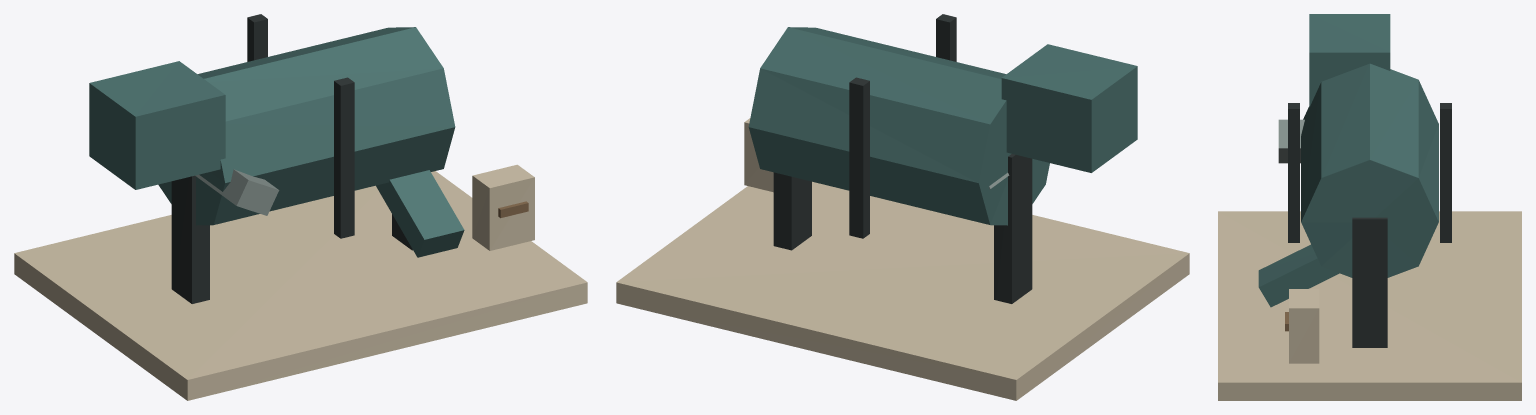
Rendered from Soil-Mixing-Station.glb.
3 renders of one model, left to right at view 1: azimuth 30°, elevation 25°; view 2: azimuth 150°, elevation 25°; view 3: azimuth 270°, elevation 25°, orthographic. The views are drawn at different scales.
Visible parts, largest first — view 1: soil-mixing-station-static-mix-cream, soil-mixing-station-static-mix-teal, soil-mixing-station-static-mix-iron, soil-mixing-station-static-mix-galv; view 2: soil-mixing-station-static-mix-cream, soil-mixing-station-static-mix-teal, soil-mixing-station-static-mix-iron; view 3: soil-mixing-station-static-mix-cream, soil-mixing-station-static-mix-teal, soil-mixing-station-static-mix-iron, soil-mixing-station-static-mix-galv.
Part boxes in pixels (x1,y1,x2,y2): soil-mixing-station-static-mix-cream: [14, 164, 587, 400]; soil-mixing-station-static-mix-teal: [89, 27, 464, 257]; soil-mixing-station-static-mix-iron: [171, 14, 412, 303]; soil-mixing-station-static-mix-galv: [195, 169, 279, 215]; soil-mixing-station-static-mix-cream: [616, 118, 1189, 400]; soil-mixing-station-static-mix-teal: [748, 27, 1137, 225]; soil-mixing-station-static-mix-iron: [773, 14, 1032, 303]; soil-mixing-station-static-mix-cream: [1218, 211, 1521, 400]; soil-mixing-station-static-mix-teal: [1258, 14, 1438, 307]; soil-mixing-station-static-mix-iron: [1288, 103, 1451, 347]; soil-mixing-station-static-mix-galv: [1278, 119, 1304, 163].
Bounding box in the file's own units: 4 × 2.35 × 3.
